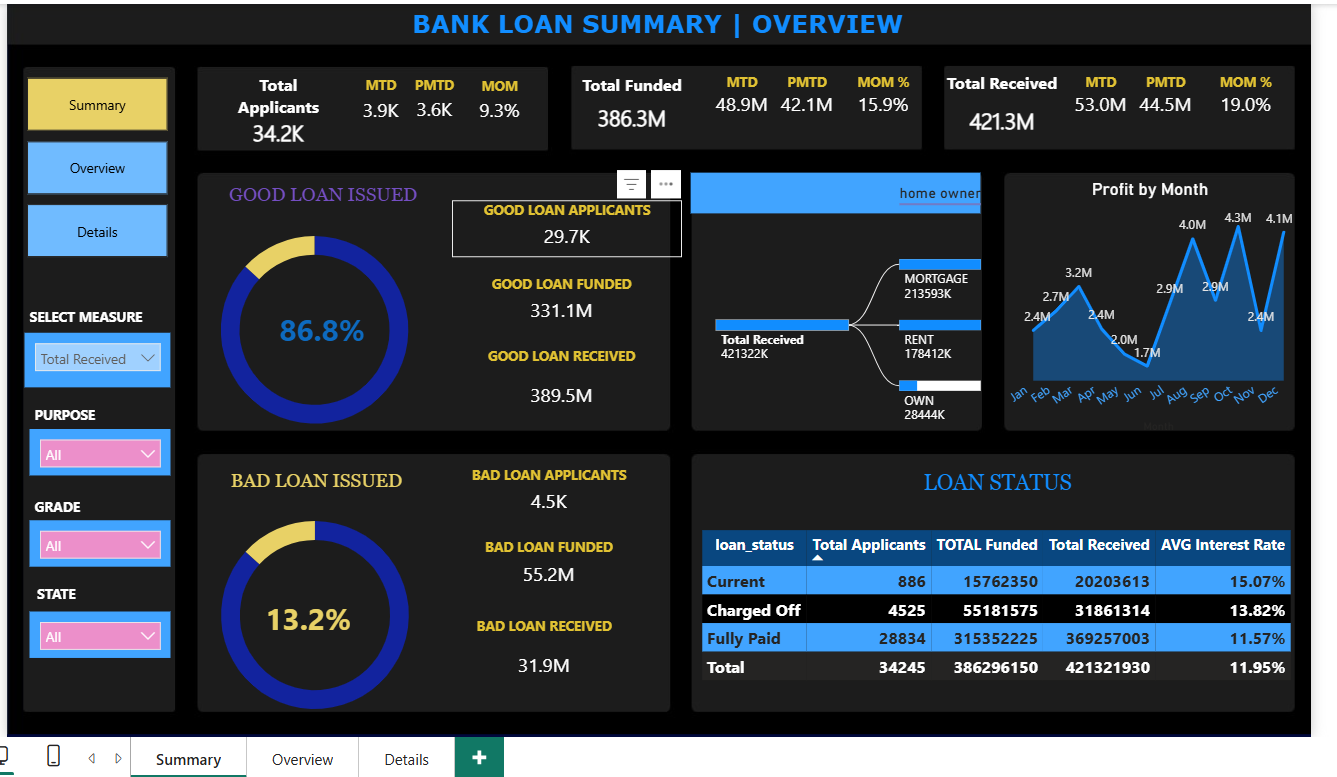

The dashboard page shown, as its layout file describes it:
{"tool":"powerbi","page":{"name":"Summary","canvas":[1280,720],"ordinal":0},"visuals":[{"type":"textbox","box":[387,0,505,45],"z":0},{"type":"card","title":"Total Applicants","fields":{"Values":["bank_finance_loan loan.Total Applicants"]},"box":[201.7,67.2,130.4,78.2],"z":1000},{"type":"card","title":"MTD","fields":{"Values":["bank_finance_loan loan.MTD Funded amount"]},"box":[657.3,67.2,127.6,43.9],"z":2000},{"type":"card","title":"PMTD","fields":{"Values":["bank_finance_loan loan.PMTD funded amount"]},"box":[721.8,67.2,127.6,43.9],"z":3000},{"type":"card","title":"MOM %","fields":{"Values":["bank_finance_loan loan.MOM growth Funded%"]},"box":[795.9,67.2,127.6,43.9],"z":4000},{"type":"card","title":"MTD","fields":{"Values":["bank_finance_loan loan.MTD applicants"]},"box":[301.9,70,130.4,53.5],"z":5000},{"type":"card","title":"PMTD","fields":{"Values":["bank_finance_loan loan.Pmtd applicants"]},"box":[354.6,69.9,130.1,52.8],"z":6000},{"type":"card","title":"MOM","fields":{"Values":["bank_finance_loan loan.MOm growth %"]},"box":[418.5,71.4,130.4,52.1],"z":7000},{"type":"card","title":"Total Funded ","fields":{"Values":["bank_finance_loan loan.TOTAL Funded"]},"box":[548.9,67.2,130.4,70],"z":8000},{"type":"card","title":"Total Received","fields":{"Values":["bank_finance_loan loan.Total Received"]},"box":[911.2,65.9,130.4,78.2],"z":9000},{"type":"card","title":"MTD","fields":{"Values":["bank_finance_loan loan.MTD amount Received"]},"box":[1010,67.2,127.6,43.9],"z":10000},{"type":"card","title":"PMTD","fields":{"Values":["bank_finance_loan loan.PMTD total Received"]},"box":[1073.1,67.2,127.6,43.9],"z":11000},{"type":"card","title":"MOM %","fields":{"Values":["bank_finance_loan loan.MOM total received"]},"box":[1152.7,67.2,127.6,43.9],"z":12000},{"type":"donutChart","fields":{"Category":["bank_finance_loan loan.GOOD LOAN VS BAD LOAN"],"Y":["bank_finance_loan loan.Total Applicants"]},"box":[160.5,200.3,282.7,240.1],"z":13000},{"type":"card","title":"GOOD LOAN %","fields":{"Values":["bank_finance_loan loan.GOOD LOAN %"]},"box":[186.6,281.3,245.6,78.2],"z":14000},{"type":"textbox","box":[205.8,171.5,208.6,42.5],"z":15000},{"type":"card","title":"GOOD LOAN APPLICANTS","fields":{"Values":["bank_finance_loan loan.GOOD LOAN APPLICATIONS"]},"box":[436.8,192.6,225.8,56.4],"z":16000},{"type":"card","title":"GOOD LOAN FUNDED","fields":{"Values":["bank_finance_loan loan.GOOD LOAN FUNDED AMOUNT"]},"box":[432.2,264.8,225,56.3],"z":17000},{"type":"card","title":"GOOD LOAN RECEIVED","fields":{"Values":["bank_finance_loan loan.GOOD LOAN TOTAL RECEIVED"]},"box":[432.2,336.2,225,81],"z":18000},{"type":"donutChart","fields":{"Category":["bank_finance_loan loan.GOOD LOAN VS BAD LOAN"],"Y":["bank_finance_loan loan.Total Applicants"]},"box":[160.7,479.8,283.4,240.5],"z":19000},{"type":"card","title":"GOOD LOAN %","fields":{"Values":["bank_finance_loan loan.BAD LOAN PERCENTAGE"]},"box":[172.9,564,245.6,78.2],"z":20000},{"type":"textbox","box":[214.7,452.8,189,39.3],"z":21000},{"type":"card","title":"BAD LOAN APPLICANTS","fields":{"Values":["bank_finance_loan loan.BAD LOAN APPLICANTS"]},"box":[419.9,452.8,225,56.3],"z":22000},{"type":"card","title":"BAD LOAN FUNDED","fields":{"Values":["bank_finance_loan loan.BAD LOAN FUNDED"]},"box":[419.6,523.9,224.5,56.4],"z":23000},{"type":"card","title":"BAD LOAN RECEIVED","fields":{"Values":["bank_finance_loan loan.BAD LOAN RECEIVED"]},"box":[414.4,601,225,81],"z":24000},{"type":"tableEx","fields":{"Values":["bank_finance_loan loan.loan_status","bank_finance_loan loan.Total Applicants","bank_finance_loan loan.TOTAL Funded","bank_finance_loan loan.Total Received","bank_finance_loan loan.AVG Interest Rate"]},"box":[676.1,511.7,591.4,200],"z":25000},{"type":"textbox","box":[822.1,452.8,300.6,49.1],"z":26000},{"type":"slicer","fields":{"Values":["bank_finance_loan loan.address_state"]},"box":[22.1,596.3,138.7,45.4],"z":27000},{"type":"slicer","fields":{"Values":["bank_finance_loan loan.grade"]},"box":[22.1,506.8,138.7,45.4],"z":28000},{"type":"slicer","fields":{"Values":["bank_finance_loan loan.purpose"]},"box":[22.1,417.2,138.7,45.4],"z":29000},{"type":"textbox","box":[22.1,389,76.1,28.2],"z":30000},{"type":"textbox","box":[22.1,479.8,76.1,31.9],"z":31000},{"type":"textbox","box":[24.5,564.4,69.9,38],"z":32000},{"type":"decompositionTreeVisual","fields":{"Analyze":["bank_finance_loan loan.Total Received"],"ExplainBy":["bank_finance_loan loan.home_ownership","bank_finance_loan loan.address_state","bank_finance_loan loan.grade","bank_finance_loan loan.purpose"]},"box":[666.3,160.7,294.5,265],"z":33000},{"type":"slicer","fields":{"Values":["SELECTION FIELD.SELECTION FIELD"]},"box":[17.2,322.7,143.6,54],"z":34000},{"type":"textbox","box":[17.2,293.3,143.6,29.4],"z":35000},{"type":"areaChart","fields":{"Category":["Date Table.Month"],"Y":["bank_finance_loan loan.Profit"]},"box":[976.7,171.8,290.8,254],"z":36000},{"type":"pageNavigator","box":[19.6,72.4,138.7,176.7],"z":36001}]}

Visuals, with their boxes on the page's 1280x720 design canvas (x1, y1, x2, y2). These are canvas units, not pixel positions in the 1337x777 screenshot, which may show the page scaled, cropped or inside an application window:
textbox: 387,0,892,45
"Total Applicants" card: 202,67,332,145
"MTD" card: 657,67,785,111
"PMTD" card: 722,67,849,111
"MOM %" card: 796,67,924,111
"MTD" card: 302,70,432,124
"PMTD" card: 355,70,485,123
"MOM" card: 418,71,549,124
"Total Funded " card: 549,67,679,137
"Total Received" card: 911,66,1042,144
"MTD" card: 1010,67,1138,111
"PMTD" card: 1073,67,1201,111
"MOM %" card: 1153,67,1280,111
donutChart - bank_finance_loan loan.GOOD LOAN VS BAD LOAN x bank_finance_loan loan.Total Applicants: 160,200,443,440
"GOOD LOAN %" card: 187,281,432,360
textbox: 206,172,414,214
"GOOD LOAN APPLICANTS" card: 437,193,663,249
"GOOD LOAN FUNDED" card: 432,265,657,321
"GOOD LOAN RECEIVED" card: 432,336,657,417
donutChart - bank_finance_loan loan.GOOD LOAN VS BAD LOAN x bank_finance_loan loan.Total Applicants: 161,480,444,720
"GOOD LOAN %" card: 173,564,418,642
textbox: 215,453,404,492
"BAD LOAN APPLICANTS" card: 420,453,645,509
"BAD LOAN FUNDED" card: 420,524,644,580
"BAD LOAN RECEIVED" card: 414,601,639,682
tableEx - bank_finance_loan loan.loan_status x bank_finance_loan loan.Total Applicants: 676,512,1268,712
textbox: 822,453,1123,502
slicer - bank_finance_loan loan.address_state: 22,596,161,642
slicer - bank_finance_loan loan.grade: 22,507,161,552
slicer - bank_finance_loan loan.purpose: 22,417,161,463
textbox: 22,389,98,417
textbox: 22,480,98,512
textbox: 24,564,94,602
decompositionTreeVisual - bank_finance_loan loan.Total Received x bank_finance_loan loan.home_ownership: 666,161,961,426
slicer - SELECTION FIELD.SELECTION FIELD: 17,323,161,377
textbox: 17,293,161,323
areaChart - Date Table.Month x bank_finance_loan loan.Profit: 977,172,1268,426
pageNavigator: 20,72,158,249
